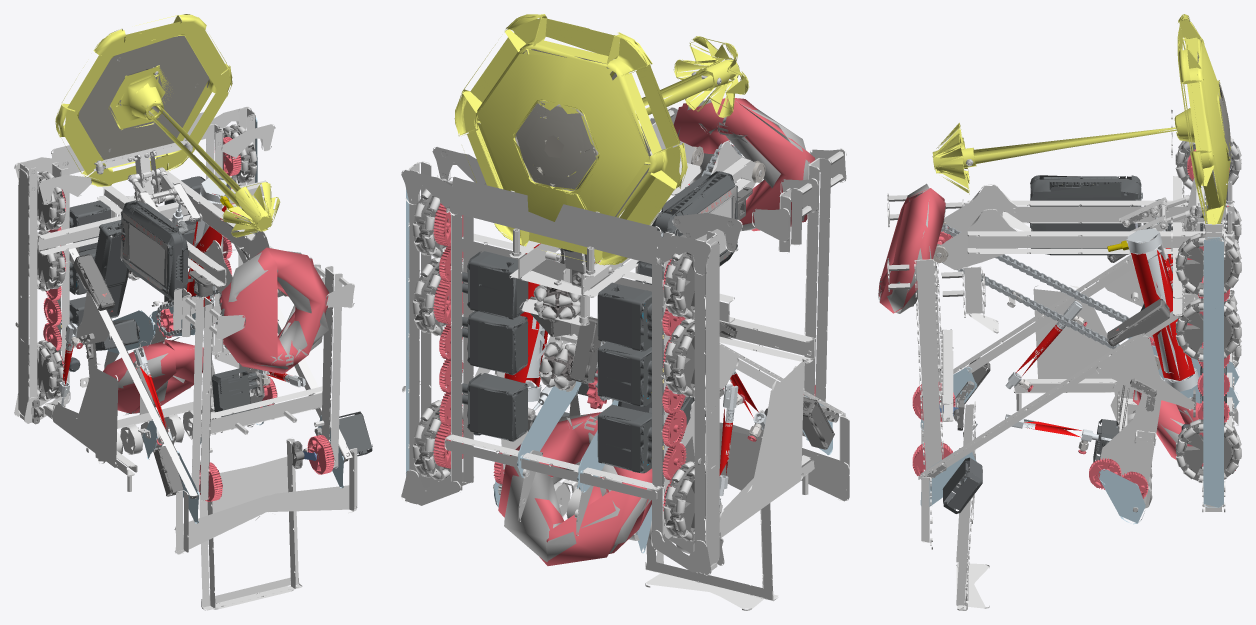
Rendered from hs-02-opt.glb.
3 renders of one model, left to right at view 1: azimuth 30°, elevation 25°; view 2: azimuth 150°, elevation 25°; view 3: azimuth 270°, elevation 25°, orthographic. The views are drawn at different scales.
Visible parts, largest first — view 1: 276-8868-001_Red (×2), occurrence of 276-8868-201, occurrence of 276-8868-203, 1 x 2 x 1 x 23 Aluminum C-Channel (276-2289) (×2), V5 Robot Brain (276-4810), 3.25" Anti-Static Omni-Directional Wheel (260mm Travel) (276 (×4), Wall Stake Aligner, Doinker Plastic, 1 x 2 x 1 x 26 Aluminum C-Channel (276-2289) (×2), 1 x 1 x 33 Aluminum Angle (276-6484) (×2), Right Drive Side Plate, V5 Smart Motor (5.5W) (276-4842) (×2) (+28 smaller); view 2: occurrence of 276-8868-201, V5 Smart Motor (6:1) (276-4840) (×6), 276-8868-001_Red (×2), 3.25" Anti-Static Omni-Directional Wheel (260mm Travel) (276 (×6), 1 x 2 x 1 x 27 Aluminum C-Channel (276-2289) (×2), Alliance Stake Aligner, 1 x 2 x 1 x 30 Aluminum C-Channel (276-2289) (×2), Doinker Plastic, occurrence of 276-8868-204, 1 x 2 x 1 x 23 Aluminum C-Channel (276-2289), Back Funnel (×4), Right Drive Side Plate (+28 smaller); view 3: 1 x 2 x 1 x 26 Aluminum C-Channel (276-2289) (×2), 3.25" Anti-Static Omni-Directional Wheel (260mm Travel) (276 (×4), occurrence of 276-8868-201, 276-8868-001_Red (×2), Left Drive Side Plate, 1 x 1 x 33 Aluminum Angle (276-6484) (×2), 1 x 2 x 1 x 23 Aluminum C-Channel (276-2289) (×2), Pneumatic Reservoir (276-8749), V5 Robot Brain (276-4810), Doinker Plastic, New Lift Bracket (×2), Intake Top (×2) (+18 smaller).
Boxes of the visible parts, box(x1,y1,x2,y2) form: 276-8868-001_Red (×2): box(103, 247, 329, 414); occurrence of 276-8868-201: box(55, 14, 232, 186); occurrence of 276-8868-203: box(78, 36, 209, 159); 1 x 2 x 1 x 23 Aluminum C-Channel (276-2289) (×2): box(191, 266, 342, 500); V5 Robot Brain (276-4810): box(120, 200, 188, 300); 3.25" Anti-Static Omni-Directional Wheel (260mm Travel) (276 (×4): box(28, 124, 257, 401); Wall Stake Aligner: box(174, 485, 357, 554); Doinker Plastic: box(51, 363, 118, 467); 1 x 2 x 1 x 26 Aluminum C-Channel (276-2289) (×2): box(97, 170, 273, 287); 1 x 1 x 33 Aluminum Angle (276-6484) (×2): box(66, 210, 352, 498); Right Drive Side Plate: box(18, 168, 28, 416); V5 Smart Motor (5.5W) (276-4842) (×2): box(212, 368, 372, 456); occurrence of 276-8868-201: box(454, 14, 687, 265); V5 Smart Motor (6:1) (276-4840) (×6): box(462, 251, 663, 473); 276-8868-001_Red (×2): box(498, 98, 815, 565); 3.25" Anti-Static Omni-Directional Wheel (260mm Travel) (276 (×6): box(412, 178, 705, 541); 1 x 2 x 1 x 27 Aluminum C-Channel (276-2289) (×2): box(450, 213, 674, 538); Alliance Stake Aligner: box(449, 176, 661, 265); 1 x 2 x 1 x 30 Aluminum C-Channel (276-2289) (×2): box(408, 161, 717, 574); Doinker Plastic: box(719, 358, 804, 537); occurrence of 276-8868-204: box(515, 101, 598, 190); 1 x 2 x 1 x 23 Aluminum C-Channel (276-2289): box(803, 158, 831, 405); Back Funnel (×4): box(401, 146, 742, 275); Right Drive Side Plate: box(706, 241, 719, 566); 1 x 2 x 1 x 26 Aluminum C-Channel (276-2289) (×2): box(967, 200, 1234, 253); 3.25" Anti-Static Omni-Directional Wheel (260mm Travel) (276 (×4): box(1175, 138, 1241, 482); occurrence of 276-8868-201: box(1174, 14, 1231, 224); 276-8868-001_Red (×2): box(878, 183, 1235, 470); Left Drive Side Plate: box(1203, 237, 1223, 507); 1 x 1 x 33 Aluminum Angle (276-6484) (×2): box(918, 223, 1195, 479); 1 x 2 x 1 x 23 Aluminum C-Channel (276-2289) (×2): box(914, 259, 943, 471); Pneumatic Reservoir (276-8749): box(1107, 228, 1198, 391); V5 Robot Brain (276-4810): box(1030, 175, 1142, 255); Doinker Plastic: box(1033, 285, 1112, 378); New Lift Bracket (×2): box(1096, 259, 1195, 410); Intake Top (×2): box(938, 184, 1018, 270).
Bounding box in the file's own units: 0.3715 × 0.7564 × 0.4494.
